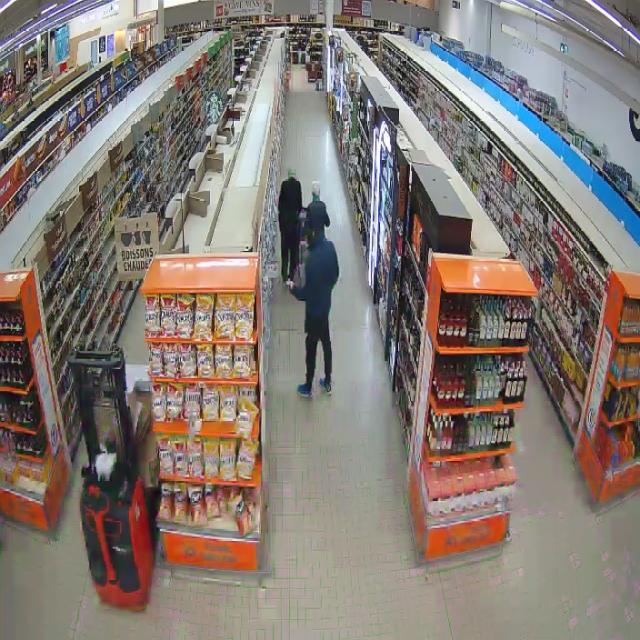article: (285, 277, 293, 287)
hands: (289, 280, 295, 293)
person: (289, 228, 339, 397), (279, 171, 302, 281), (307, 181, 329, 235)
